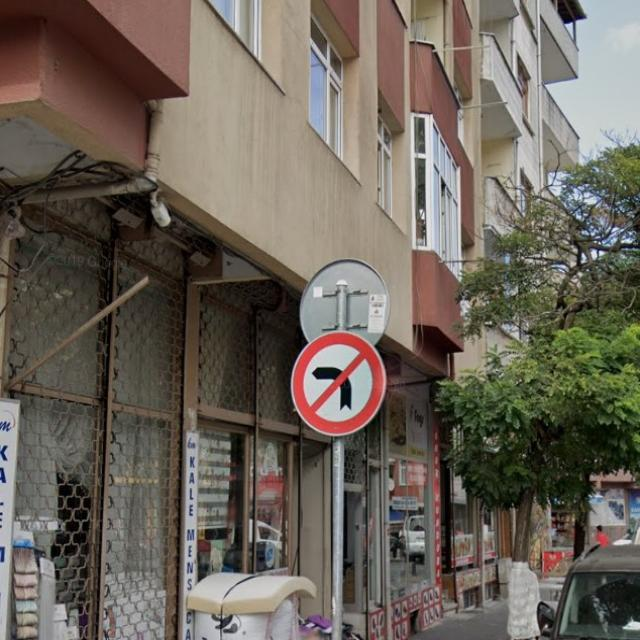soladonulmez: (289, 331, 387, 436)
